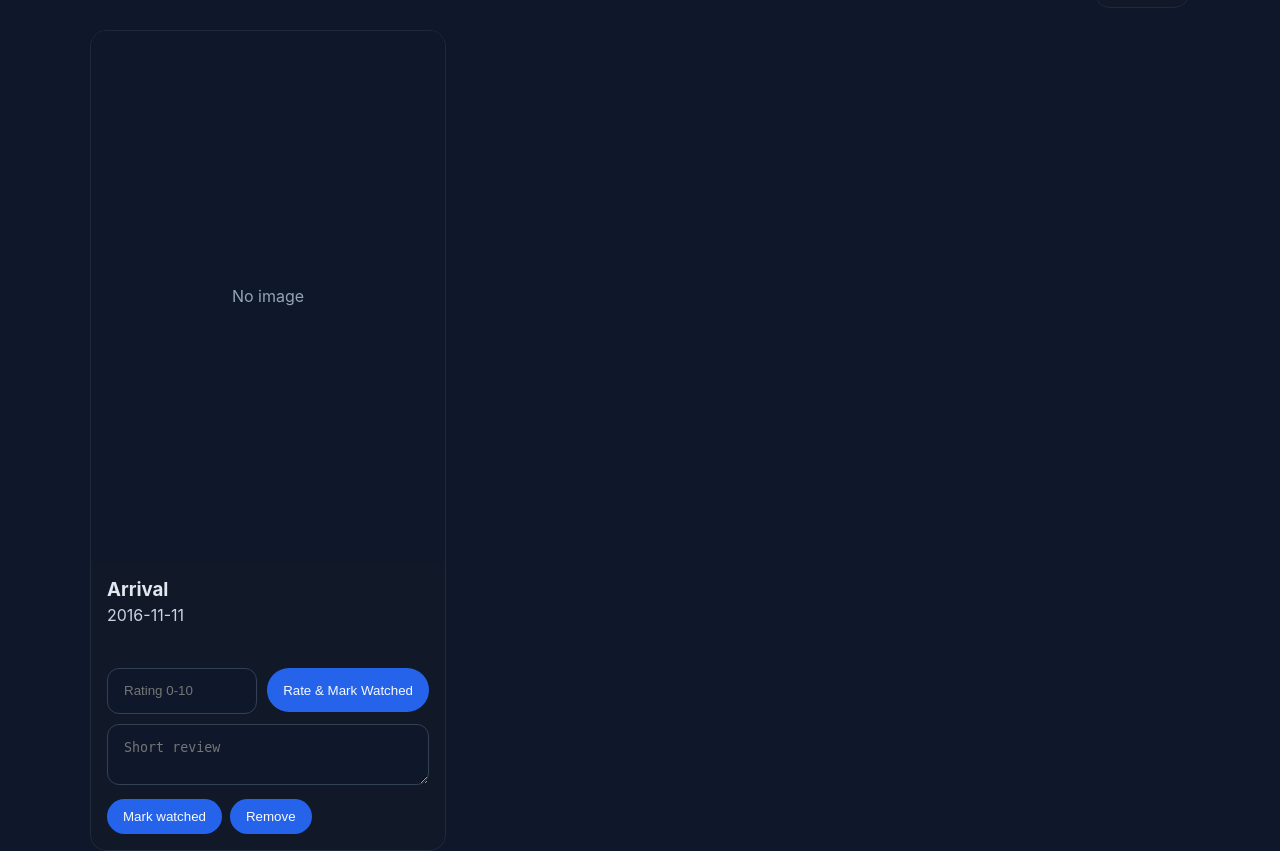
Scenario: removes a movie from the watchlist
(page scrolled)
expect the heading "Arrival" is shown: met, box [107,578,168,601]
Click the button "Remove": (271,816) [230,799,312,834]
(page scrolled)
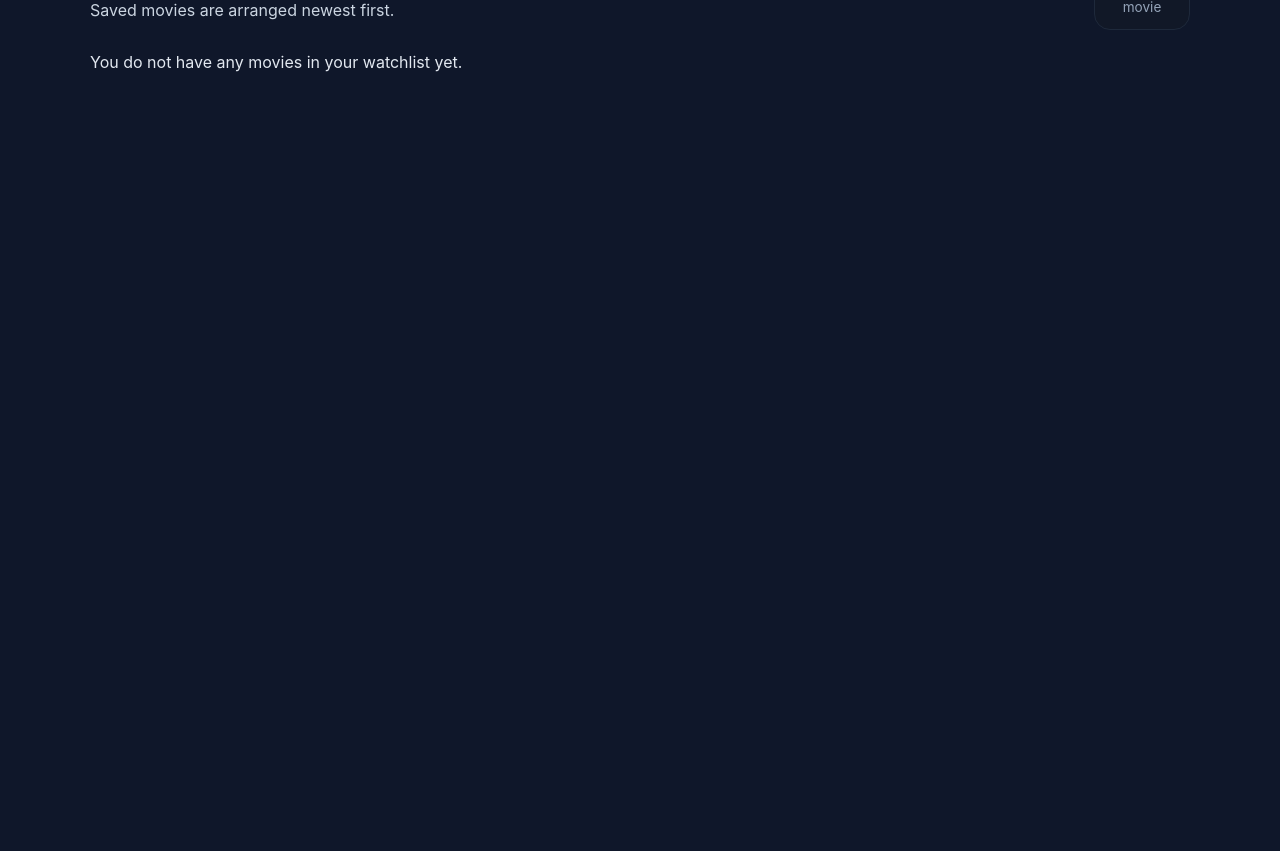
expect the heading "Arrival" is gone: met
